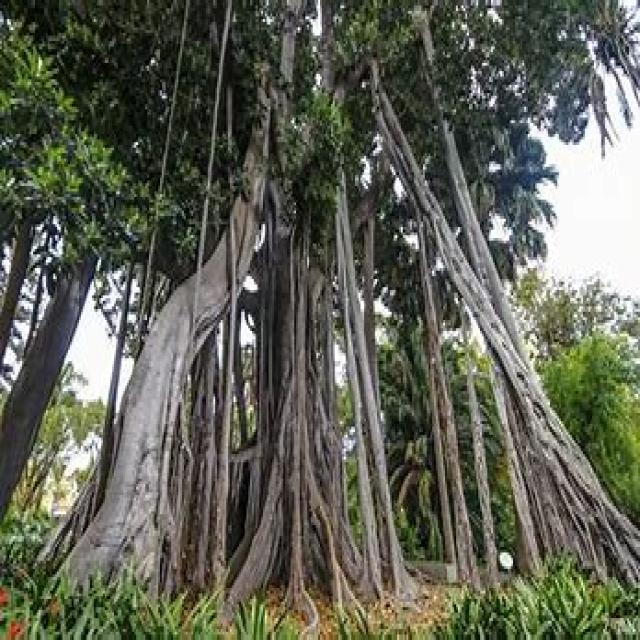Banyan-Tree: (0, 0, 640, 640), (164, 30, 585, 613)
